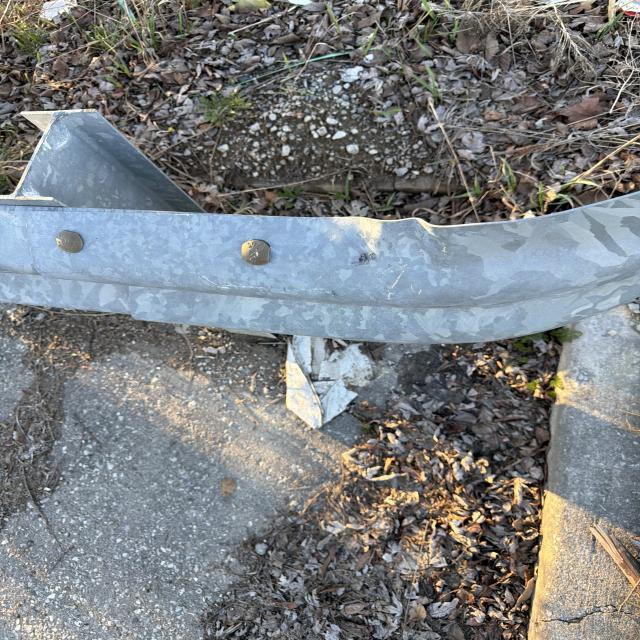Guard rail: (11, 140, 600, 333)
